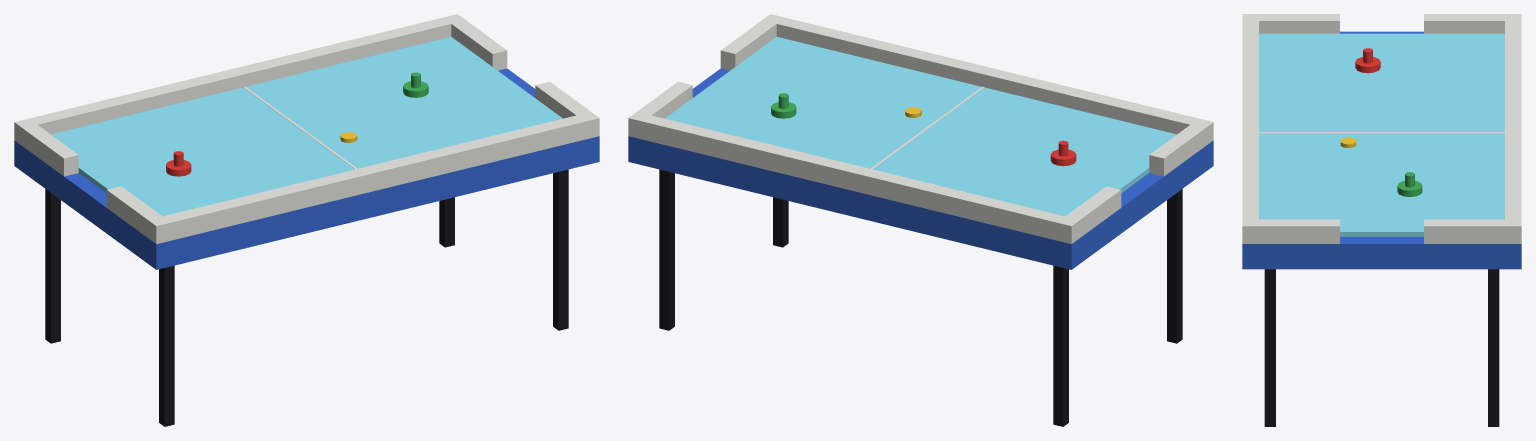
Rendered from Air_Hockey.obj.
The picture shows the model from 3 angles, left to right: view 1: azimuth 30°, elevation 25°; view 2: azimuth 150°, elevation 25°; view 3: azimuth 270°, elevation 25°; orthographic projection.
Visible parts, largest first — view 1: Air_Hockey; view 2: Air_Hockey; view 3: Air_Hockey.
Boxes of the visible parts, x1,y1,x2,y2 form: Air_Hockey: [14, 14, 599, 426]; Air_Hockey: [628, 14, 1213, 426]; Air_Hockey: [1242, 14, 1521, 426].
Size of the model in its own units: 1.8 by 0.85 by 1.
